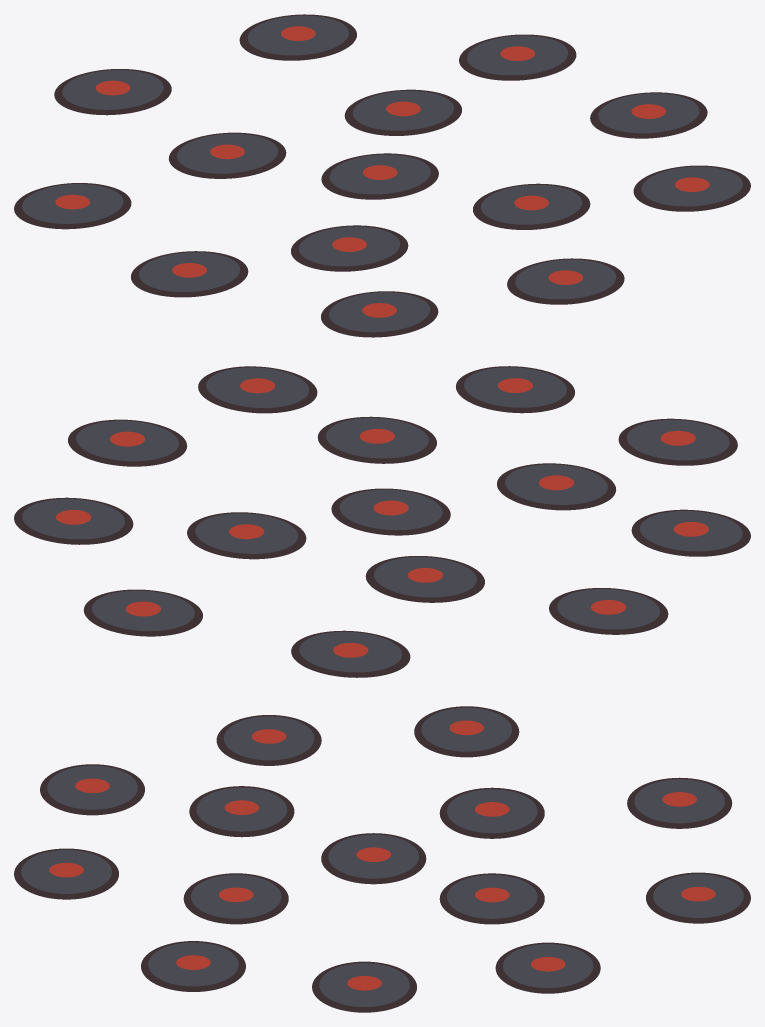
Rendered from good_pizza_single_scene2.fbx.
3 views of the same model, one above another, from view 1: azimuth 30°, elevation 25°; view 2: azimuth 150°, elevation 25°; view 3: azimuth 270°, elevation 25° (orthographic).
Parts seen in each view (by area): view 1: bin_olive_o5_h.009; view 2: bin_olive_o5_h.009; view 3: bin_olive_o5_h.009.
Boxes of the visible parts, x1=… form: bin_olive_o5_h.009: x1=14, y1=14, x2=750, y2=337; bin_olive_o5_h.009: x1=14, y1=366, x2=750, y2=677; bin_olive_o5_h.009: x1=14, y1=706, x2=750, y2=1012.
Bounding box in the file's own units: 250 × 1.5 × 254.
